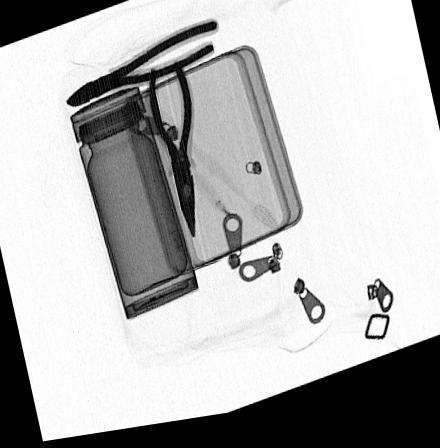Pliers: (64, 23, 219, 109), (146, 65, 198, 242)
